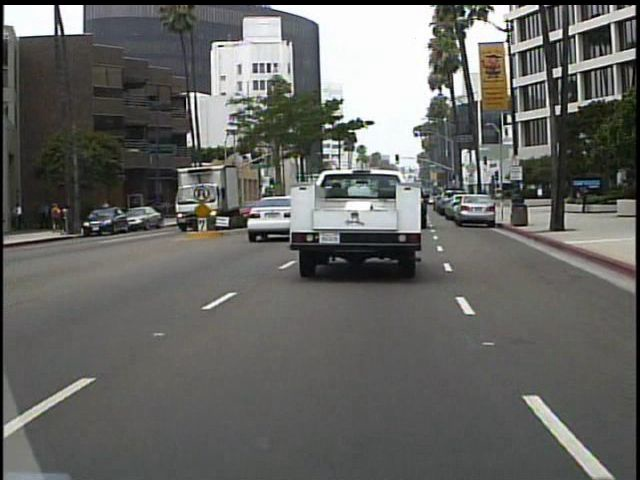person: (575, 179, 591, 216)
